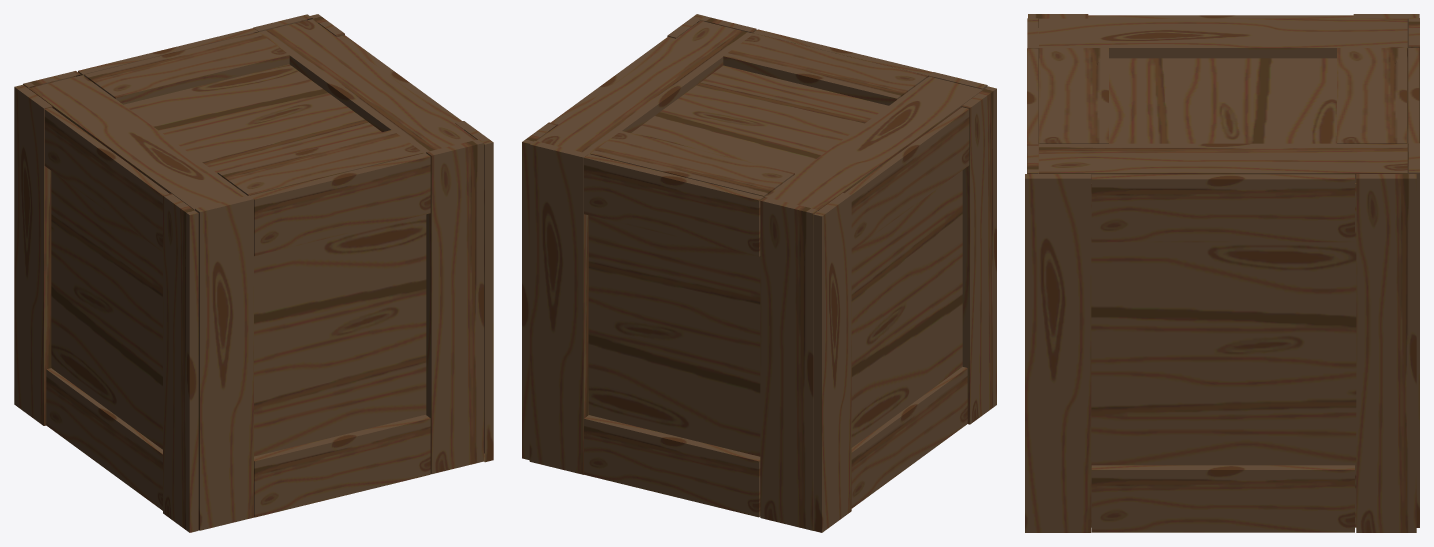
3 renders of one model, left to right at view 1: azimuth 30°, elevation 25°; view 2: azimuth 150°, elevation 25°; view 3: azimuth 270°, elevation 25°, orthographic. The views are drawn at different scales.
Parts seen in each view (by area): view 1: Box001; view 2: Box001; view 3: Box001.
Part boxes in pixels (x1,y1,x2,y2): Box001: [14, 14, 493, 532]; Box001: [522, 14, 996, 532]; Box001: [1025, 14, 1419, 532].
Size of the model in its own units: 1.32 by 1.33 by 1.34.
Materials: 1 (1 with a texture image).
